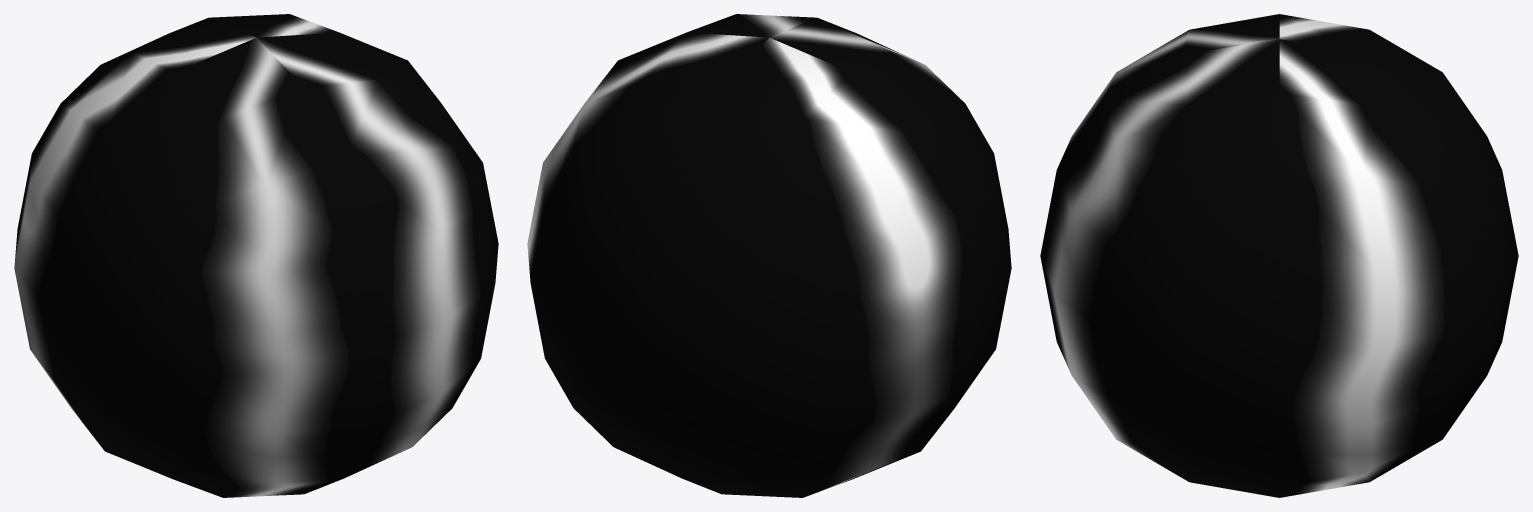
Rendered from PowerUp.fbx.
The picture shows the model from 3 angles, left to right: view 1: azimuth 30°, elevation 25°; view 2: azimuth 150°, elevation 25°; view 3: azimuth 270°, elevation 25°; orthographic projection.
Parts seen in each view (by area): view 1: PowerUpSkin; view 2: PowerUpSkin; view 3: PowerUpSkin.
Boxes of the visible parts, <box> form: PowerUpSkin: <box>14,14,498,497</box>; PowerUpSkin: <box>527,14,1011,497</box>; PowerUpSkin: <box>1040,14,1518,497</box>.
Size of the model in its own units: 181 by 181 by 181.
